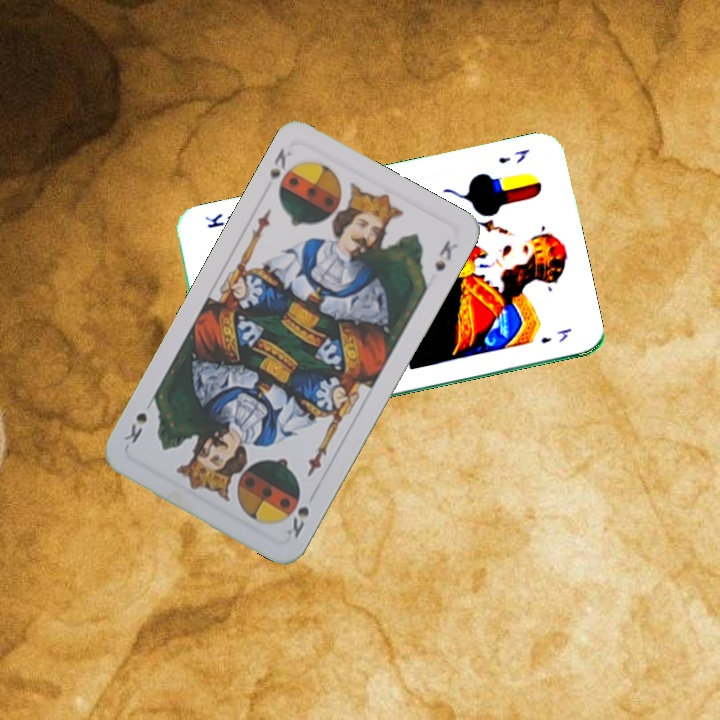EK: (494, 145, 533, 166)
SK: (265, 144, 299, 198), (281, 502, 312, 541)
